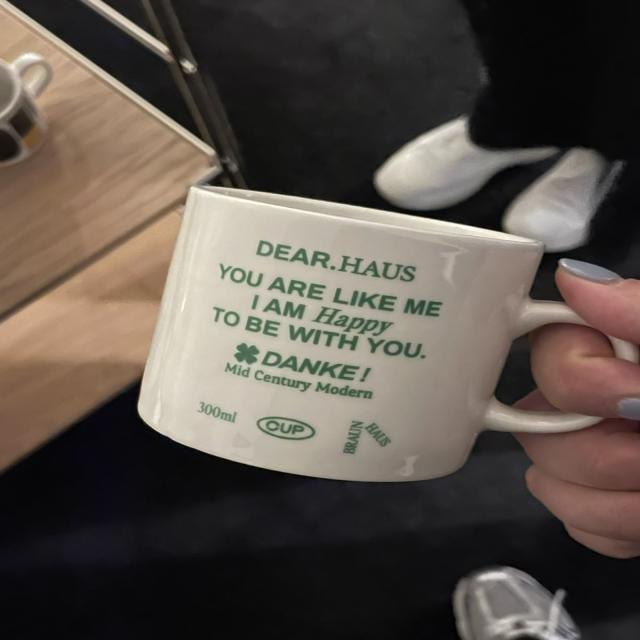glass cup: (137, 185, 640, 482)
